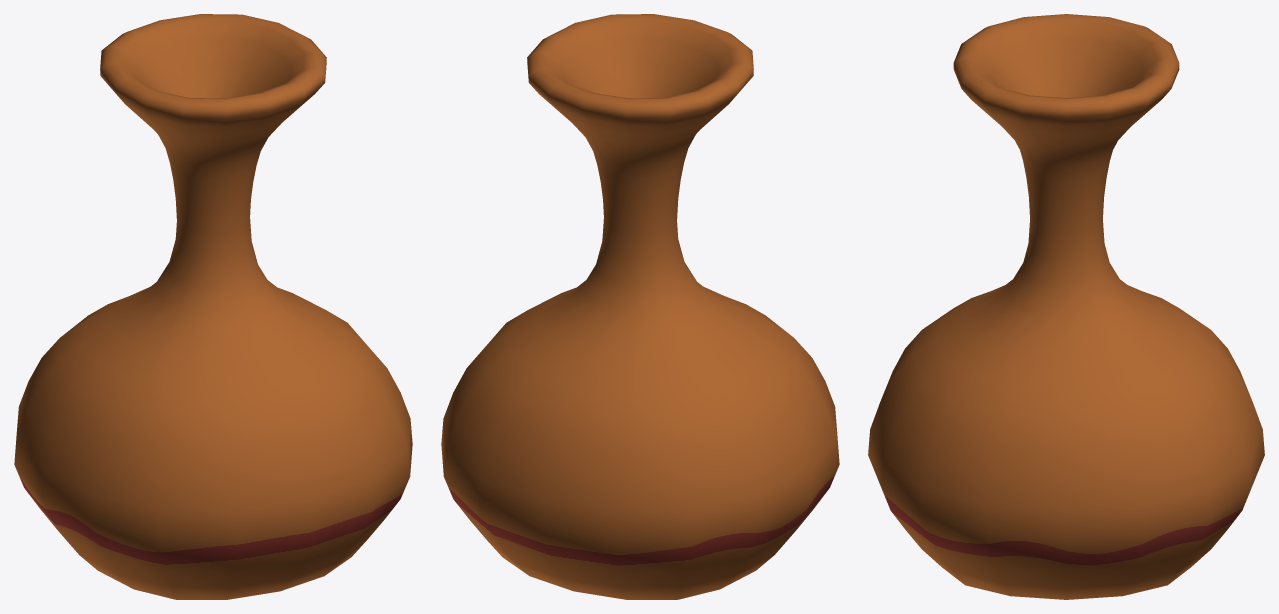
File: RedVaseM.fbx
The picture shows the model from 3 angles, left to right: view 1: azimuth 30°, elevation 25°; view 2: azimuth 150°, elevation 25°; view 3: azimuth 270°, elevation 25°; orthographic projection.
Visible parts, largest first — view 1: Cube.005; view 2: Cube.005; view 3: Cube.005.
Part boxes in pixels (x1,y1,x2,y2): Cube.005: [14, 14, 412, 599]; Cube.005: [441, 14, 839, 599]; Cube.005: [868, 14, 1264, 599].
Bounding box in the file's own units: 176 × 238 × 176.
